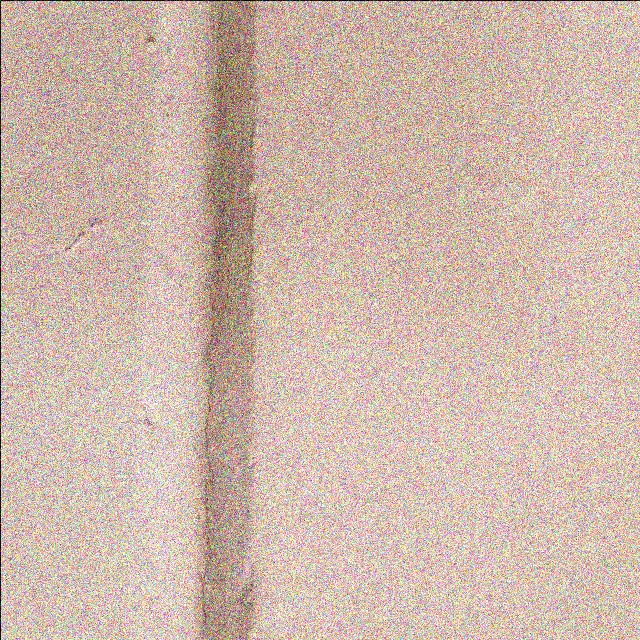SurfaceCrack: (145, 171, 265, 639)
